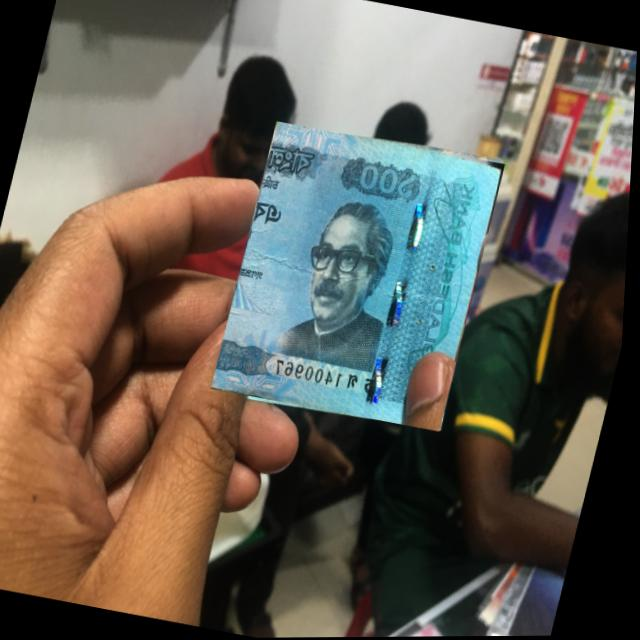Taka: (213, 120, 508, 434)
